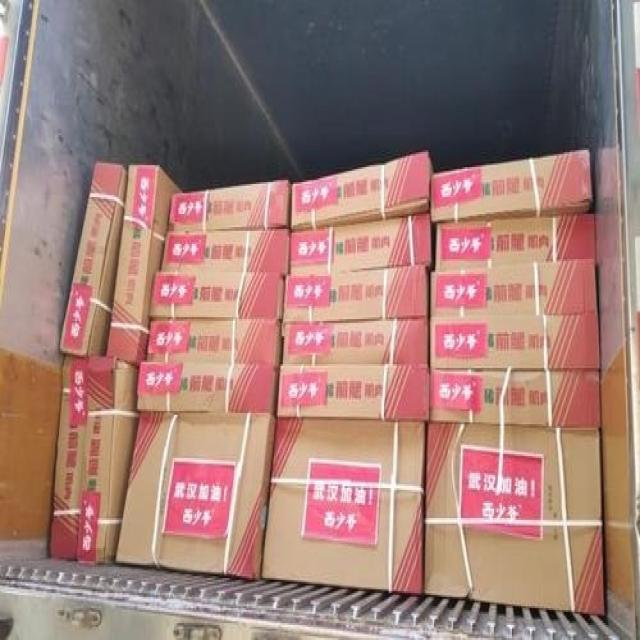box: (425, 424, 604, 616), (262, 417, 426, 595), (115, 413, 276, 580), (106, 165, 183, 368), (59, 161, 127, 358), (77, 357, 140, 565), (431, 148, 593, 221), (292, 150, 435, 231), (430, 368, 600, 428), (431, 313, 600, 370), (430, 259, 598, 315), (436, 214, 596, 272), (289, 212, 433, 276), (276, 364, 429, 422), (283, 265, 429, 323), (138, 362, 279, 417), (50, 353, 87, 561), (283, 317, 429, 364), (148, 272, 285, 321), (166, 178, 292, 231), (146, 321, 280, 368), (160, 229, 291, 274)
